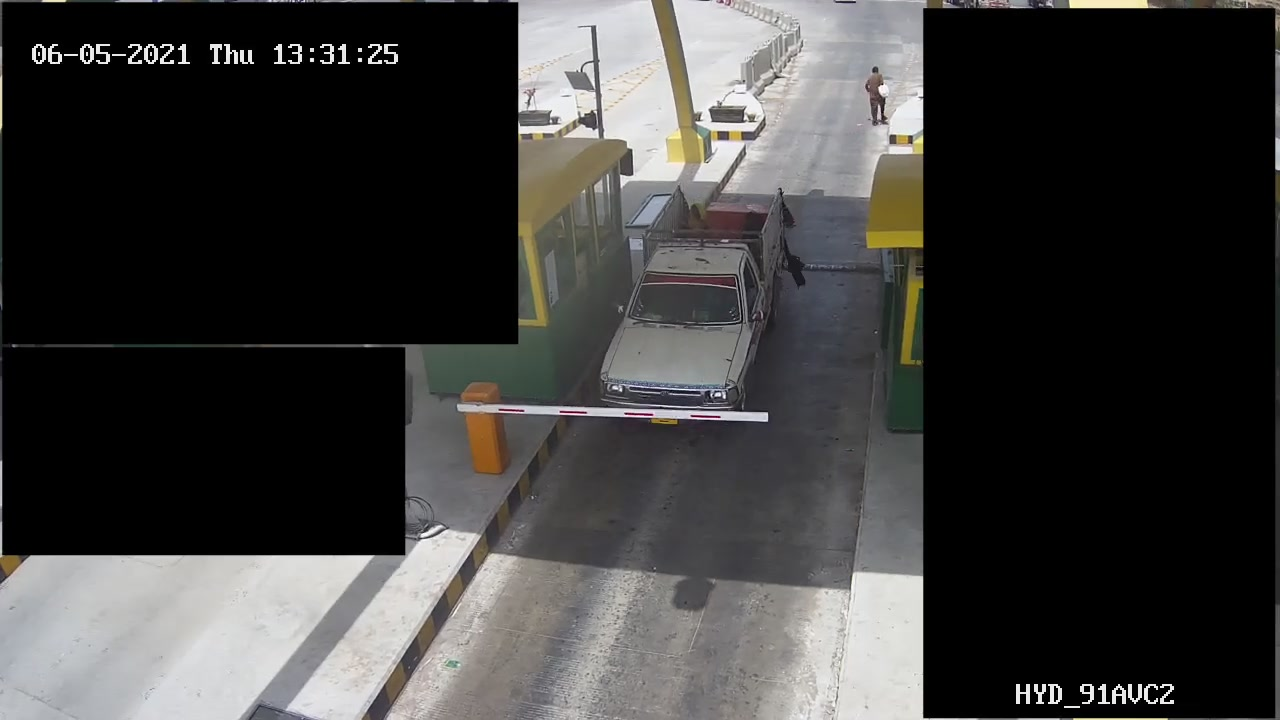F1: (590, 180, 800, 436)
